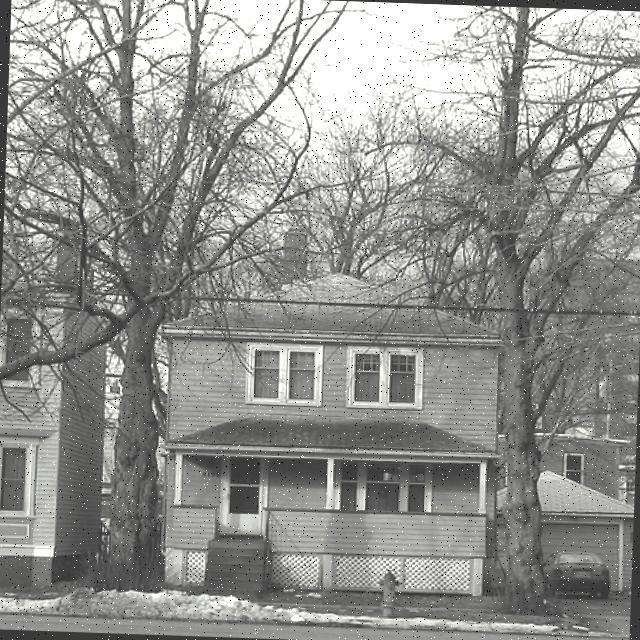fire_hydrant: (375, 570, 400, 618)
